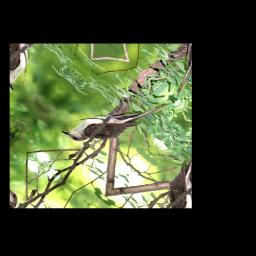Cuckoo: (61, 68, 171, 168)
